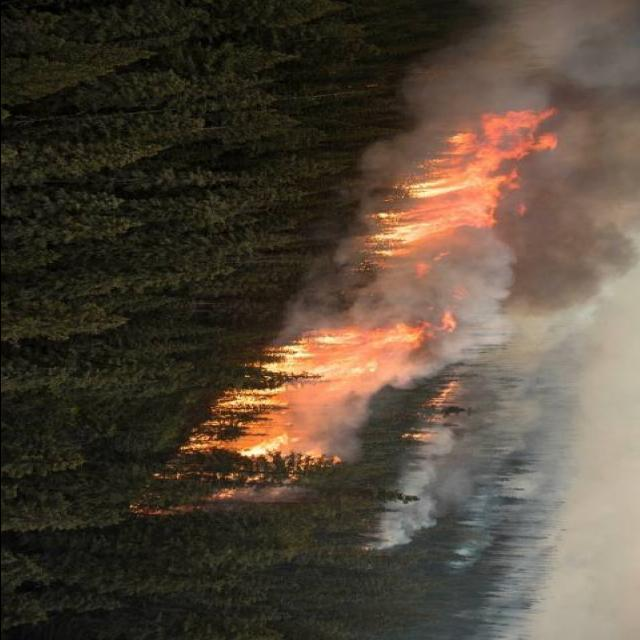Fire: (184, 323, 464, 489), (346, 114, 546, 282)
